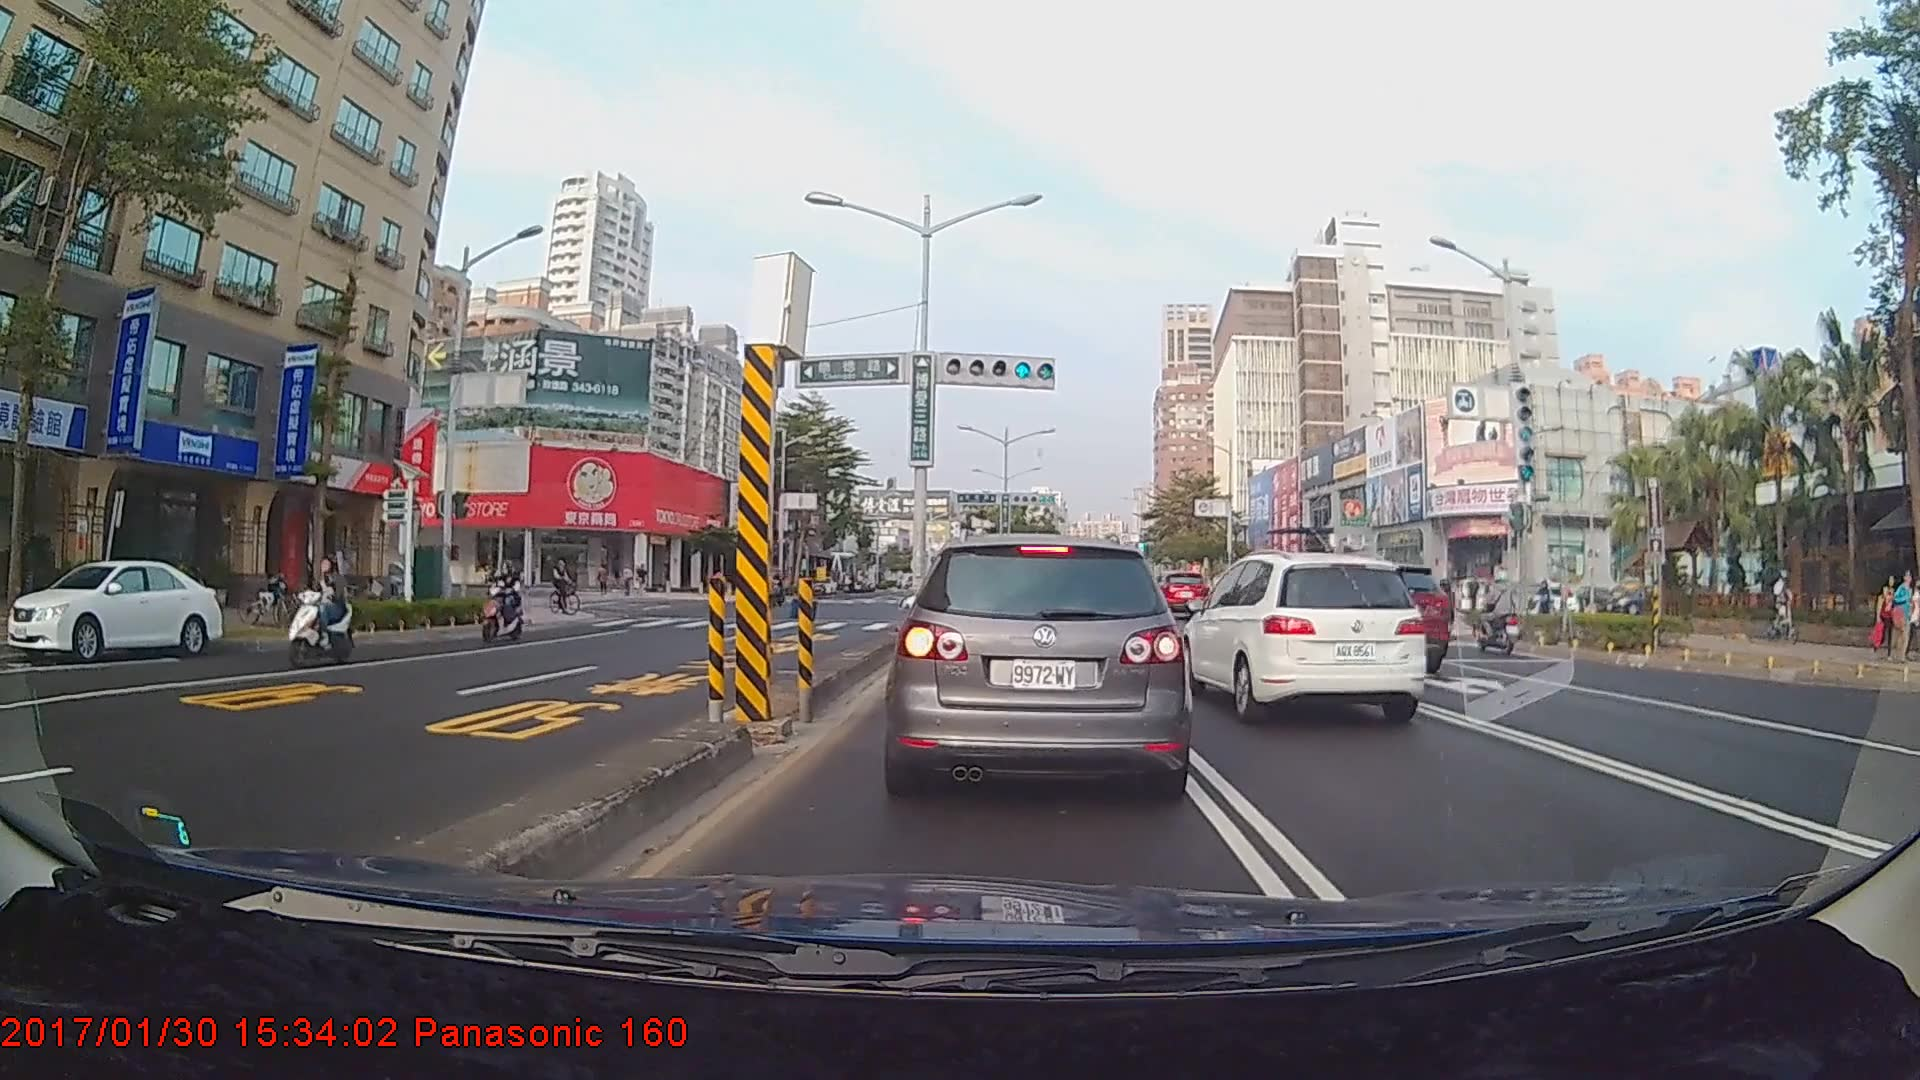pedestrian: (1870, 573, 1899, 661), (1890, 572, 1914, 664)
rider: (280, 555, 361, 667), (1465, 565, 1527, 652), (479, 562, 530, 646), (1761, 562, 1803, 647), (554, 558, 590, 617)
vehicle: (893, 533, 1184, 796), (1176, 550, 1429, 726), (6, 558, 224, 662), (1148, 570, 1208, 615)
